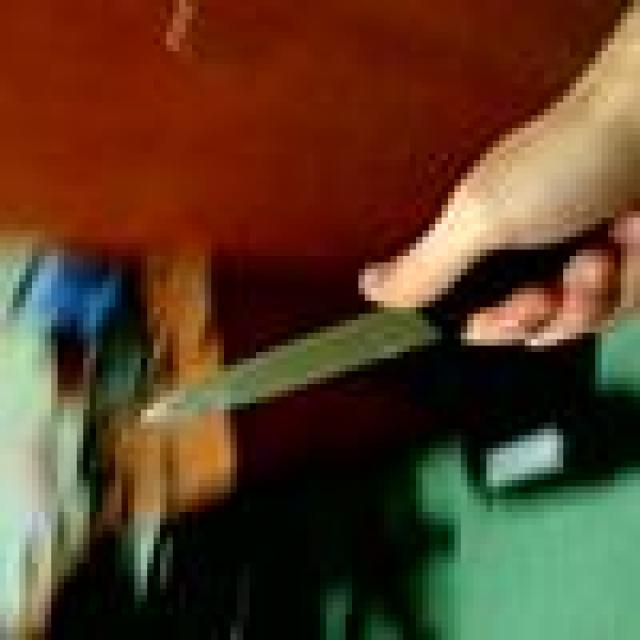knife: (142, 308, 445, 426)
